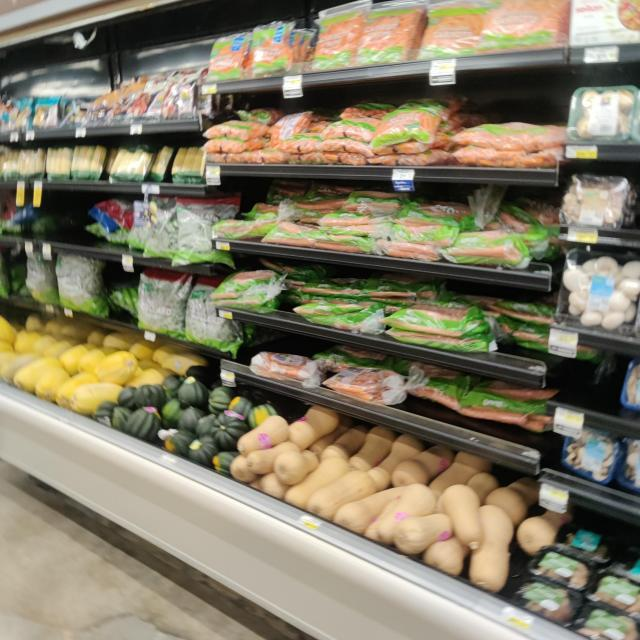Carrots: (463, 377, 561, 431), (473, 0, 571, 52), (419, 0, 489, 56), (385, 298, 488, 336), (359, 4, 421, 65), (394, 359, 468, 409), (315, 8, 371, 72), (448, 230, 534, 270), (295, 298, 383, 335), (329, 365, 406, 403), (375, 101, 443, 143), (215, 269, 281, 309), (251, 350, 322, 387), (249, 22, 293, 72), (316, 209, 396, 235), (207, 33, 245, 79), (397, 217, 457, 243), (209, 118, 270, 141), (263, 222, 319, 246), (268, 112, 312, 142), (321, 118, 384, 138)
Corn: (110, 146, 154, 180), (173, 145, 211, 179), (72, 145, 108, 178), (44, 146, 74, 182), (17, 150, 47, 178)
Mushrooms: (558, 249, 640, 337), (569, 87, 639, 143), (562, 174, 630, 231), (562, 423, 621, 485), (510, 578, 581, 628), (533, 545, 594, 591), (579, 600, 640, 640), (589, 573, 640, 619)
Salad: (175, 198, 237, 270), (185, 279, 244, 353), (55, 254, 111, 321), (138, 270, 186, 340)
